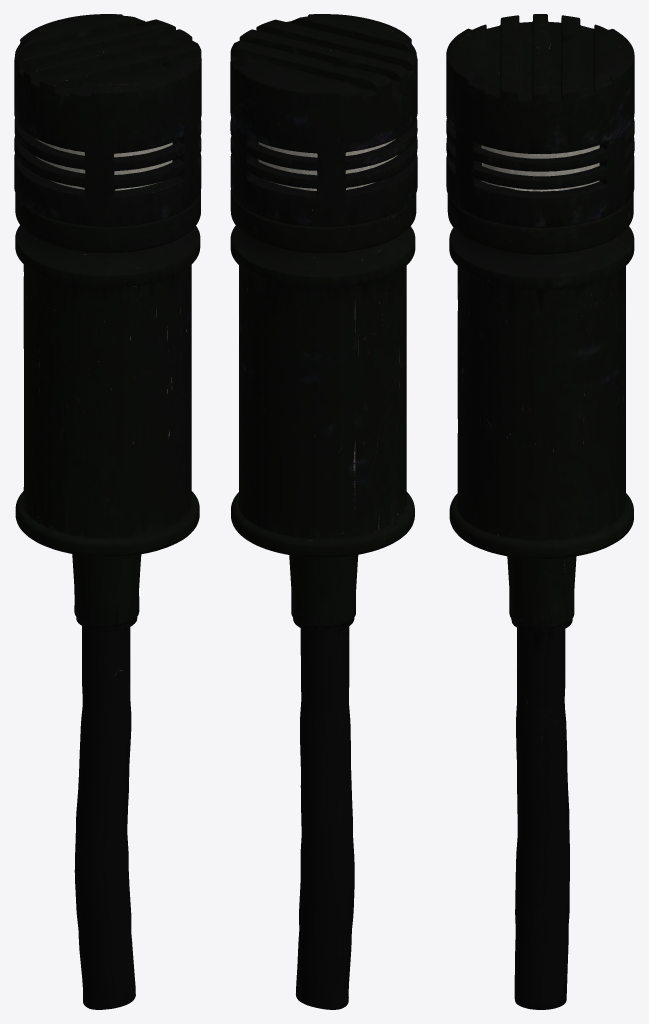
Rendered from Audio Technica ATM350a.glb.
The picture shows the model from 3 angles, left to right: view 1: azimuth 30°, elevation 25°; view 2: azimuth 150°, elevation 25°; view 3: azimuth 270°, elevation 25°; orthographic projection.
Parts seen in each view (by area): view 1: geometry_0; view 2: geometry_0; view 3: geometry_0.
Boxes of the visible parts, x1,y1,x2,y2 form: geometry_0: (14,14,201,1009); geometry_0: (230,14,417,1009); geometry_0: (446,14,634,1009).
Size of the model in its own units: 0.3572 by 2 by 0.3583.
1 material, 1 textured.
